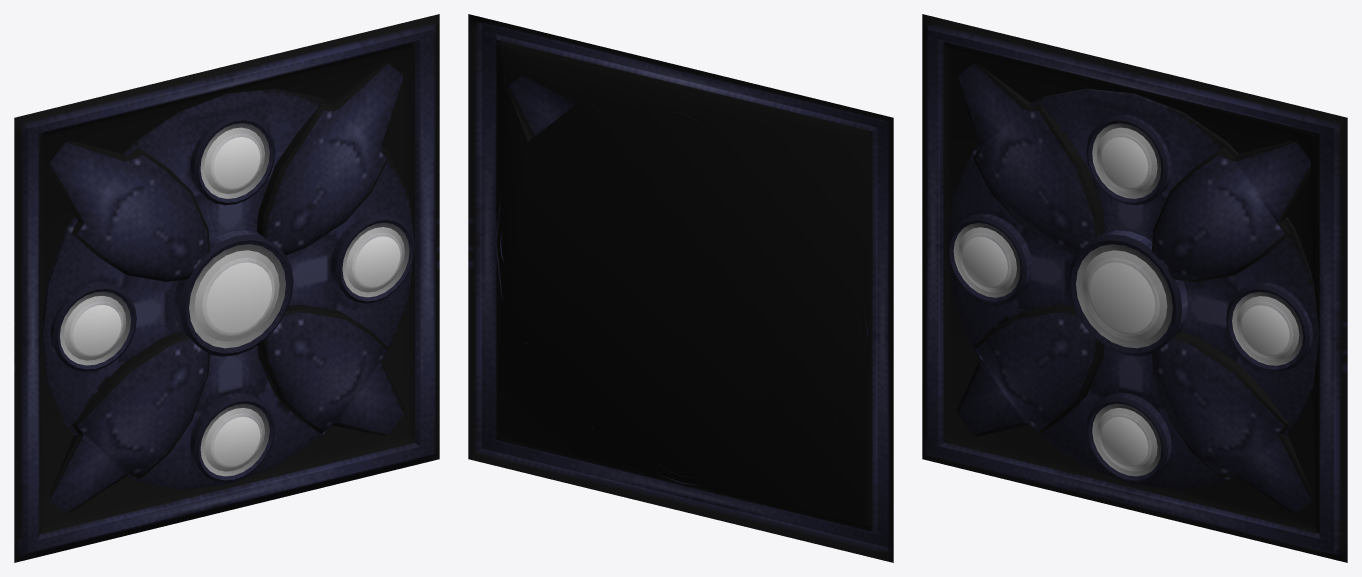
Rendered from med3_1.fbx.
3 views of the same model, side by side, from view 1: azimuth 30°, elevation 25°; view 2: azimuth 150°, elevation 25°; view 3: azimuth 330°, elevation 25° (orthographic).
Parts seen in each view (by area): view 1: med3_1_mesh; view 2: med3_1_mesh; view 3: med3_1_mesh.
Boxes of the visible parts, x1,y1,x2,y2 form: med3_1_mesh: (14, 14, 439, 562); med3_1_mesh: (468, 14, 893, 562); med3_1_mesh: (922, 14, 1347, 562).
Size of the model in its own units: 256 by 256 by 14.27.
